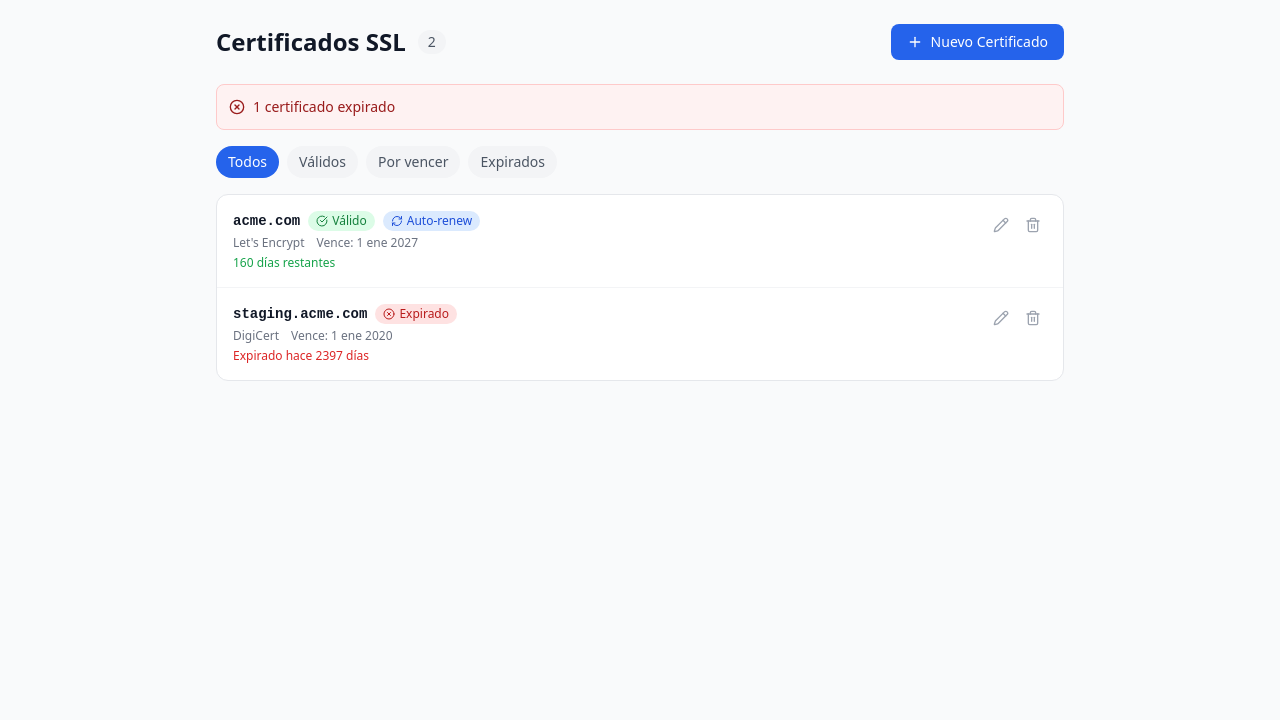
Test: SSLCertsPage › abre modal de edición con título correcto
Click the button named "editar". click: (1001, 225)
box: [987,211,1015,239]
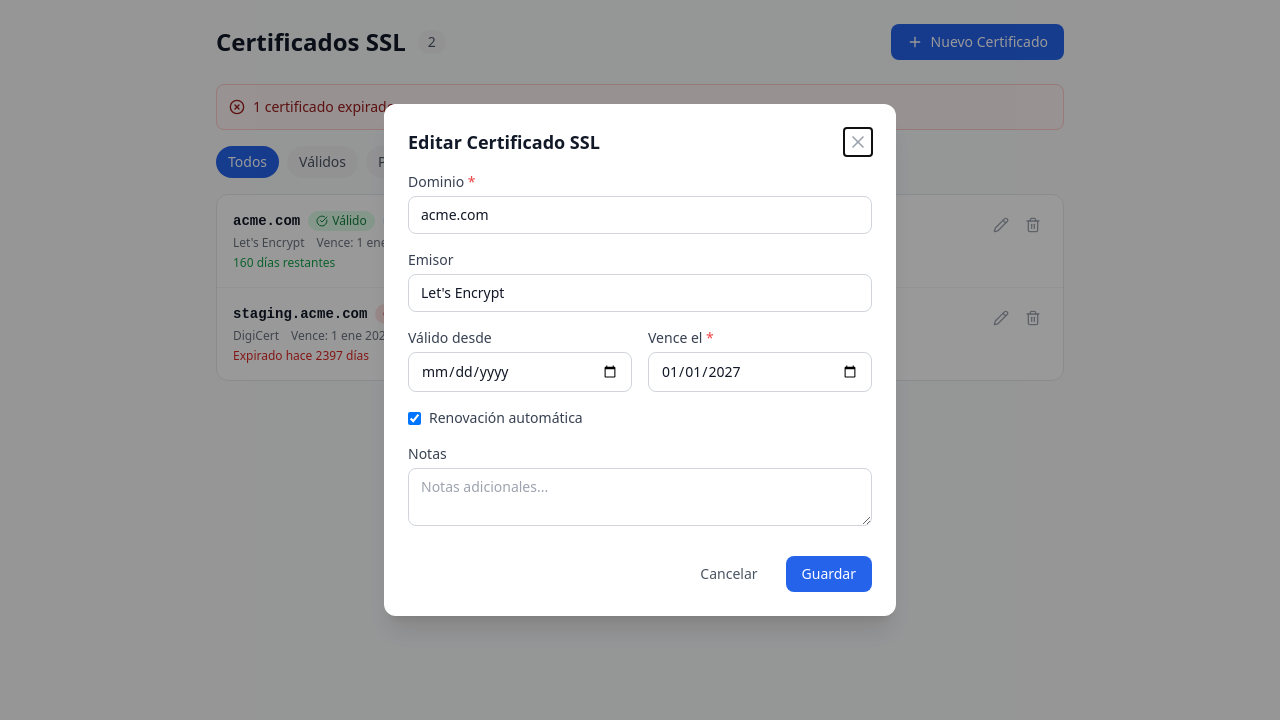
Check: the dialog is shown, box [384,104,896,616]
Check: the heading "Editar Certificado SSL" is shown, box [408,128,600,156]
